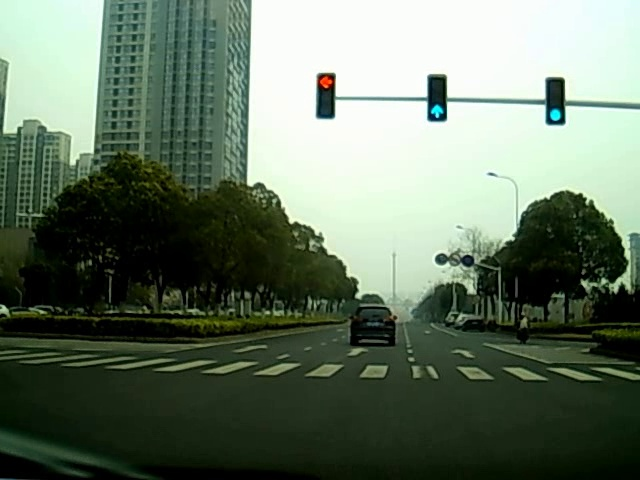Traffic_Light_go: (546, 81, 564, 124), (429, 78, 443, 121)
Traffic_Light_stop: (318, 75, 334, 117)
